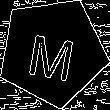M_N: (25, 23, 80, 81)
